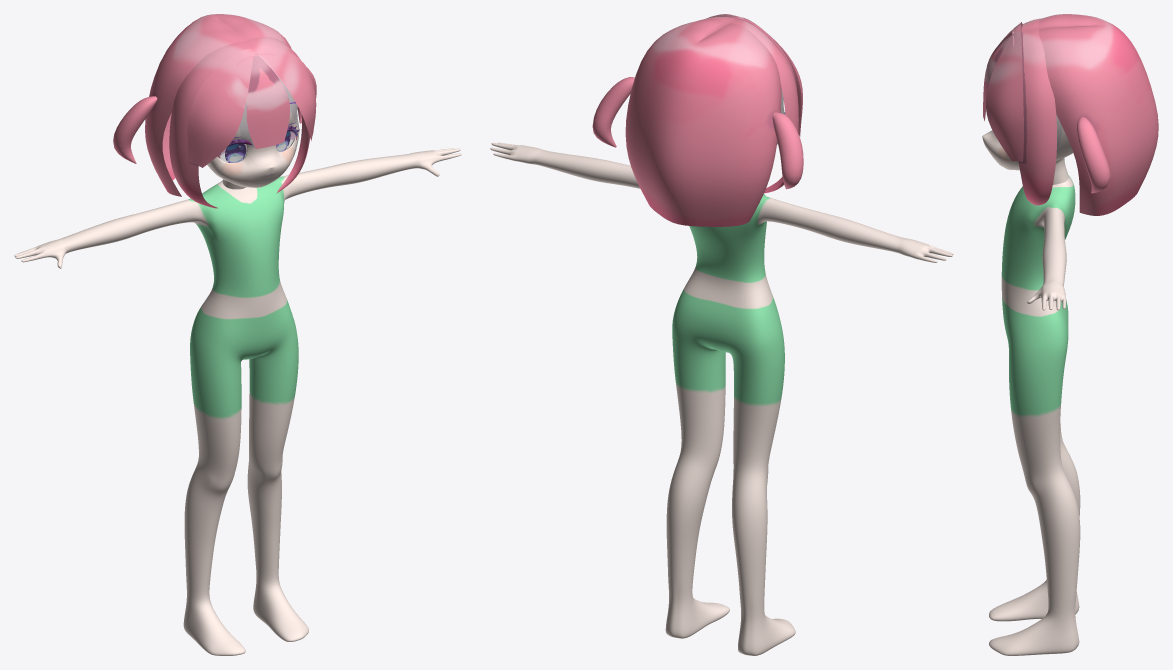
Rendered from キャラクター.glb.
3 renders of one model, left to right at view 1: azimuth 30°, elevation 25°; view 2: azimuth 150°, elevation 25°; view 3: azimuth 270°, elevation 25°, orthographic. The views are drawn at different scales.
Parts seen in each view (by area): view 1: 体, 横髪, 後ろ髪, 頭, 前髪; view 2: 体, 後ろ髪, 横髪; view 3: 体, 後ろ髪, 横髪, 頭, 前髪.
Boxes of the visible parts, <box> form: 体: <box>14,148,461,655</box>; 横髪: <box>169,37,316,208</box>; 後ろ髪: <box>113,14,316,196</box>; 頭: <box>207,55,299,189</box>; 前髪: <box>246,55,289,148</box>; 体: <box>490,142,953,655</box>; 後ろ髪: <box>592,19,803,226</box>; 横髪: <box>698,14,802,193</box>; 体: <box>989,158,1080,655</box>; 後ろ髪: <box>1038,14,1158,215</box>; 横髪: <box>986,18,1056,205</box>; 頭: <box>982,115,1073,184</box>; 前髪: <box>983,34,1012,120</box>.
Bounding box in the file's own units: 0.9411 × 1.2 × 0.3159.
Materials: 4 (4 with a texture image).
